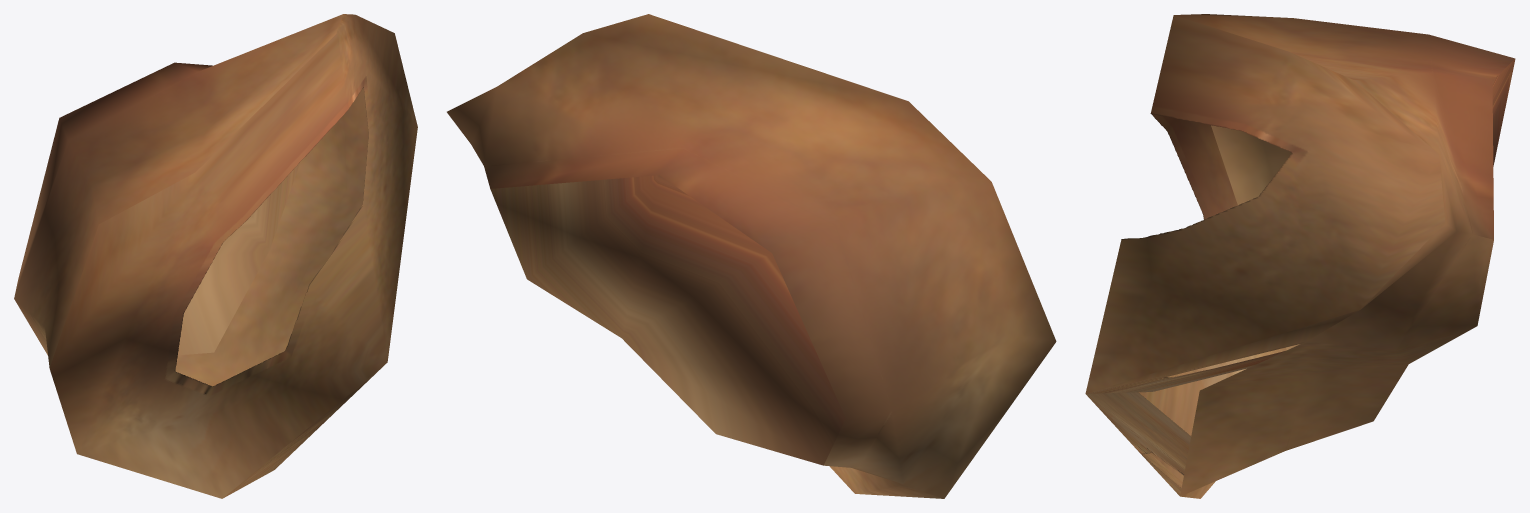
The model's file is thumb_01_l.dae.
3 renders of one model, left to right at view 1: azimuth 30°, elevation 25°; view 2: azimuth 150°, elevation 25°; view 3: azimuth 270°, elevation 25°, orthographic. The views are drawn at different scales.
Visible parts, largest first — view 1: thumb_1_l; view 2: thumb_1_l; view 3: thumb_1_l.
Part boxes in pixels (<box>): thumb_1_l: <box>14,14,417,498</box>; thumb_1_l: <box>447,14,1056,498</box>; thumb_1_l: <box>1085,14,1515,498</box>.
Size of the model in its own units: 0.0749 by 0.0475 by 0.0663.
1 material, 1 textured.
